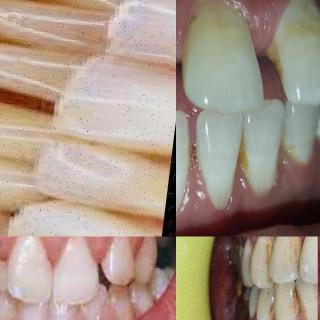Gum Swelling: (0, 237, 154, 259)
maligned: (3, 236, 54, 296), (0, 239, 7, 291), (150, 236, 176, 248), (64, 237, 74, 245)
stains: (261, 10, 295, 88), (232, 124, 257, 179), (276, 131, 302, 173), (258, 236, 280, 284), (284, 237, 308, 280), (288, 285, 315, 320), (259, 290, 281, 320)
